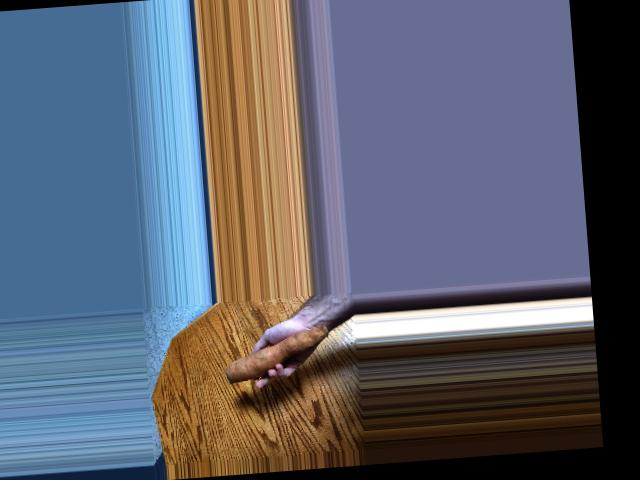sweet_potato: (221, 322, 335, 385)
